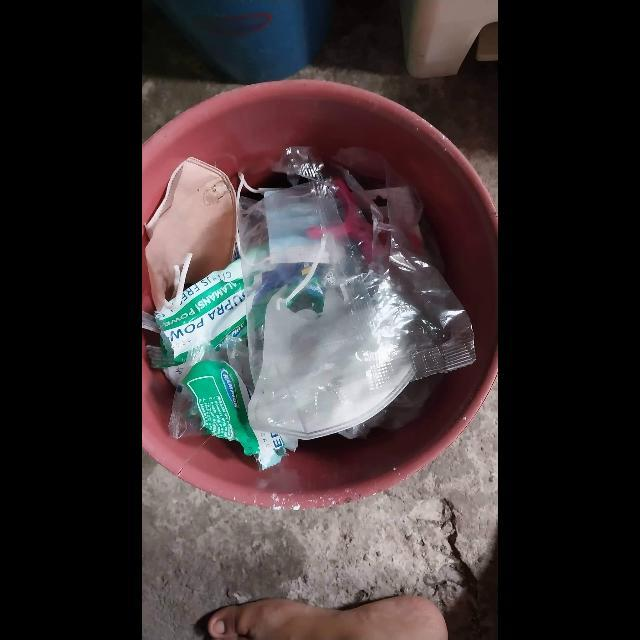plastic_sachet: (169, 330, 302, 470)
